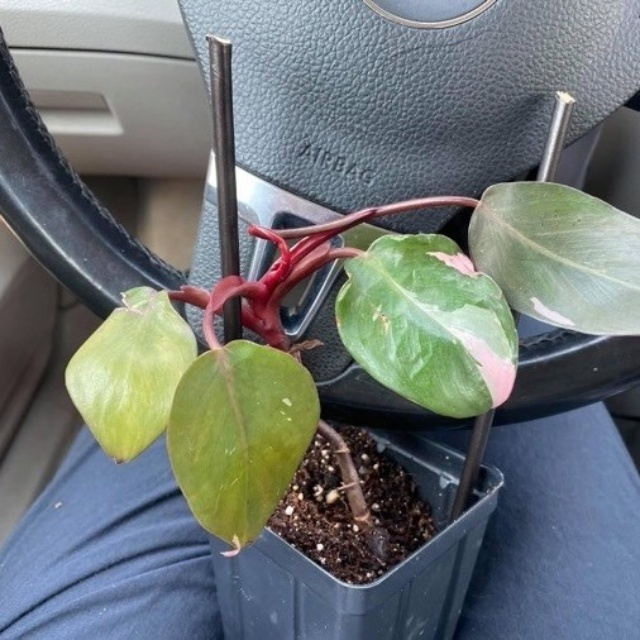obstacle: (118, 191, 605, 632)
